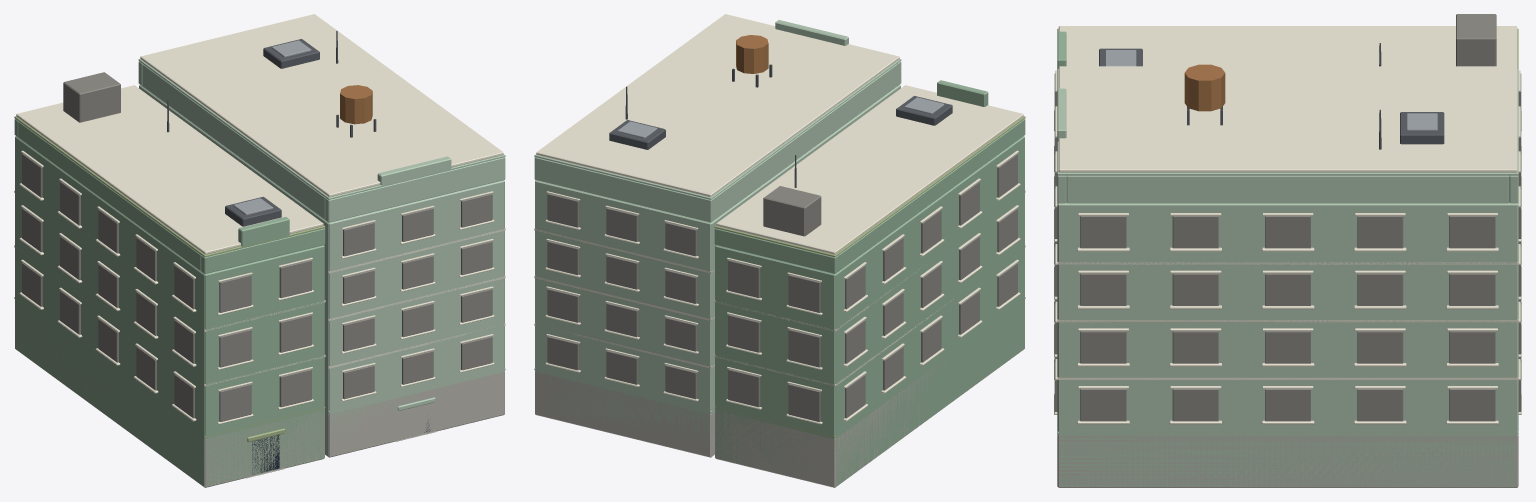
Rendered from VG_Bld_Residential_26.fbx.
3 renders of one model, left to right at view 1: azimuth 30°, elevation 25°; view 2: azimuth 150°, elevation 25°; view 3: azimuth 270°, elevation 25°, orthographic. The views are drawn at different scales.
Parts seen in each view (by area): view 1: VG_Bld_Residential_26_Body; view 2: VG_Bld_Residential_26_Body; view 3: VG_Bld_Residential_26_Body.
Part boxes in pixels (x1,y1,x2,y2): VG_Bld_Residential_26_Body: (14, 14, 505, 487); VG_Bld_Residential_26_Body: (534, 14, 1025, 487); VG_Bld_Residential_26_Body: (1054, 14, 1521, 487).
Size of the model in its own units: 23 by 21.44 by 25.
